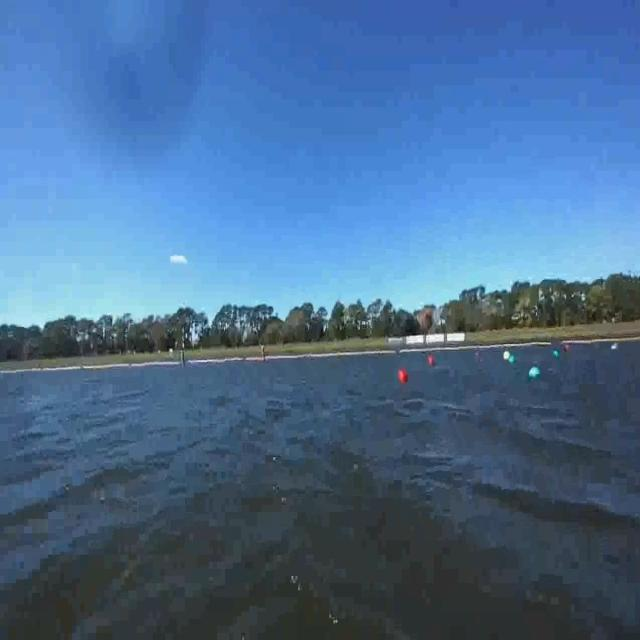green-buoy: (530, 366, 544, 378), (554, 350, 560, 359)
red-buoy: (400, 366, 410, 384), (398, 369, 407, 385), (428, 353, 436, 366)
